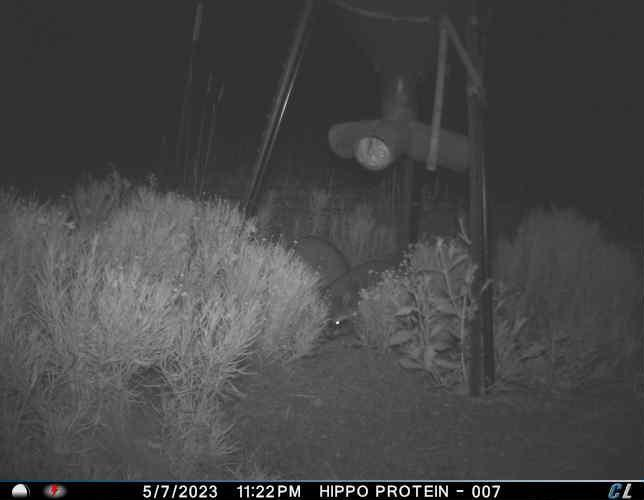Raccoon: (317, 259, 401, 342), (286, 231, 354, 281)
